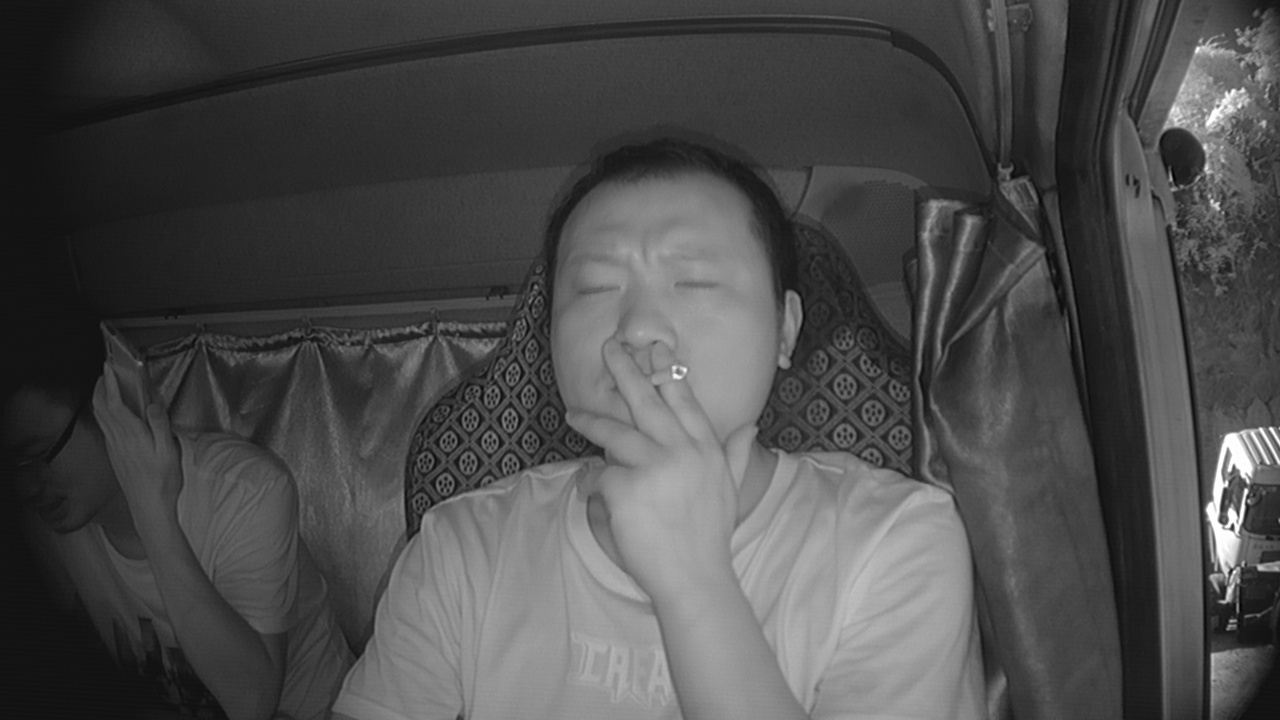hand: (582, 353, 738, 547)
